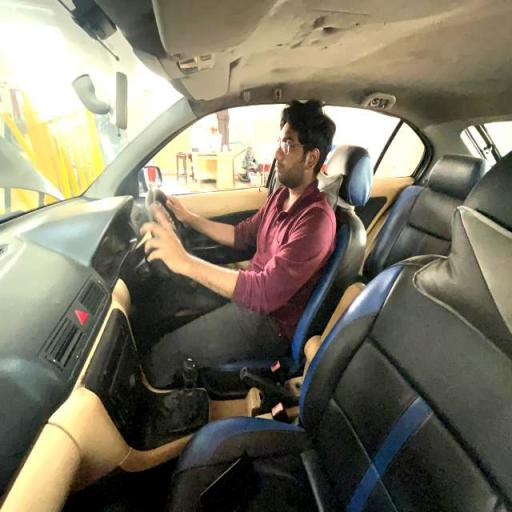Reaching_behind: (133, 98, 336, 376)
